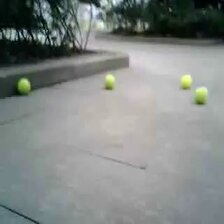tennis: (192, 87, 207, 102), (17, 78, 30, 94), (102, 72, 116, 86), (180, 74, 192, 87)
